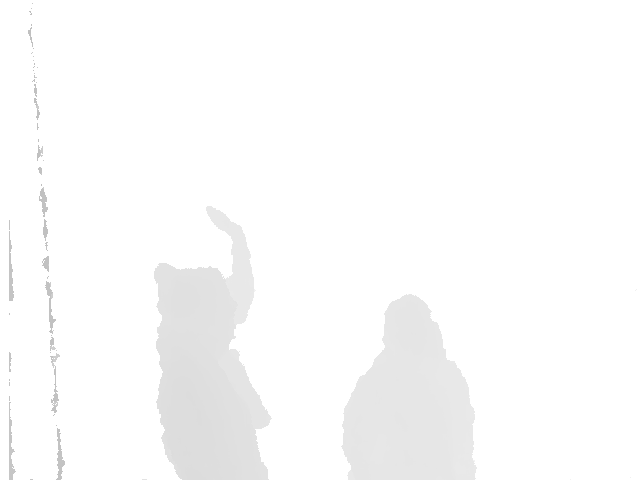hand: (206, 205, 245, 242)
head: (153, 263, 238, 345), (382, 295, 448, 360)
person: (152, 205, 273, 479), (340, 295, 478, 480)
